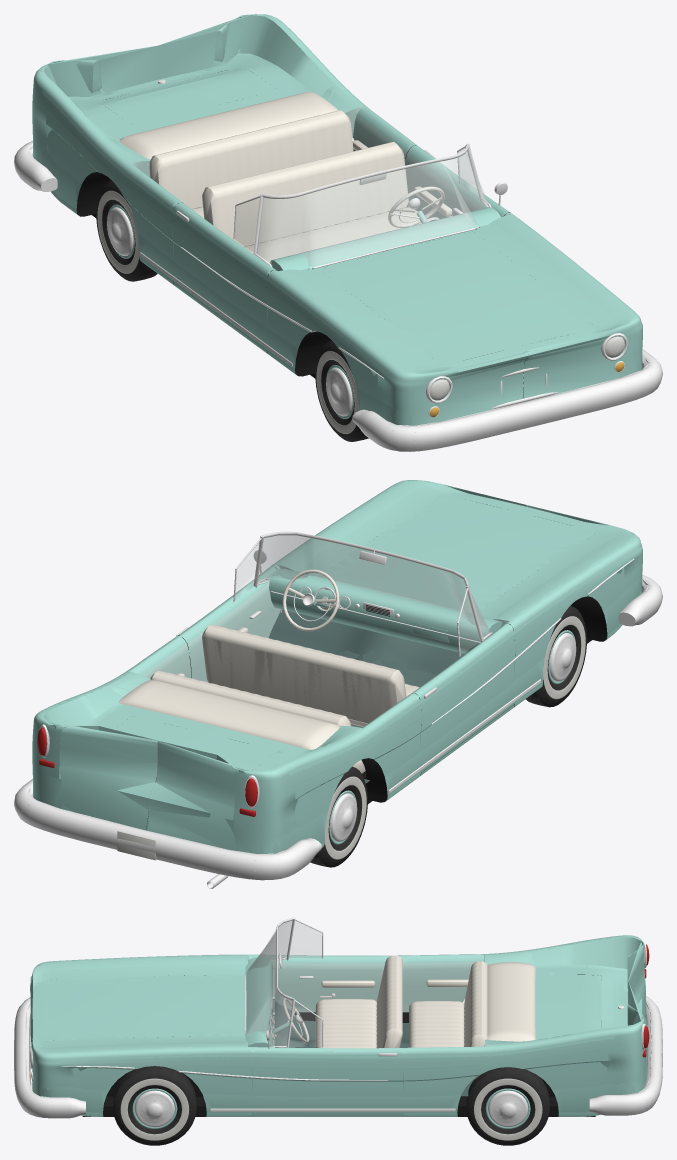
The model's file is convertible.glb.
3 renders of one model, top to bottom at view 1: azimuth 30°, elevation 25°; view 2: azimuth 150°, elevation 25°; view 3: azimuth 270°, elevation 25°, orthographic. The views are drawn at different scales.
Parts seen in each view (by area): view 1: body, trim, body_L1, glass, glass_L1, trim_L1, wheel_RR_mesh, wheel_FR_mesh, wheel_RR_L1_mesh, wheel_FR_L1_mesh, steering_wheel_mesh; view 2: body, trim, body_L1, trim_L1, glass, glass_L1, wheel_FR_mesh, wheel_RR_mesh, wheel_FR_L1_mesh, wheel_RR_L1_mesh, steering_wheel_mesh; view 3: body, trim, body_L1, glass, wheel_FL_mesh, wheel_RL_mesh, trim_L1, glass_L1, wheel_FL_L1_mesh, wheel_RL_L1_mesh, steering_wheel_mesh.
Boxes of the visible parts, x1,y1,x2,y2 form: body: [32, 14, 642, 425]; trim: [14, 79, 662, 451]; body_L1: [32, 14, 642, 425]; glass: [235, 149, 489, 265]; glass_L1: [257, 151, 488, 265]; trim_L1: [18, 143, 662, 451]; wheel_RR_mesh: [96, 181, 157, 281]; wheel_FR_mesh: [315, 341, 368, 441]; wheel_RR_L1_mesh: [96, 180, 157, 280]; wheel_FR_L1_mesh: [315, 341, 368, 441]; steering_wheel_mesh: [388, 186, 444, 227]; body: [32, 480, 642, 853]; trim: [14, 531, 662, 888]; body_L1: [33, 480, 642, 853]; trim_L1: [14, 532, 648, 879]; glass: [235, 535, 490, 654]; glass_L1: [258, 535, 489, 636]; wheel_FR_mesh: [525, 606, 586, 707]; wheel_RR_mesh: [310, 766, 367, 867]; wheel_FR_L1_mesh: [526, 606, 586, 706]; wheel_RR_L1_mesh: [312, 771, 367, 866]; steering_wheel_mesh: [282, 569, 339, 631]; body: [30, 935, 647, 1116]; trim: [14, 917, 662, 1118]; body_L1: [30, 936, 647, 1116]; glass: [246, 921, 321, 1046]; wheel_FL_mesh: [113, 1066, 196, 1145]; wheel_RL_mesh: [466, 1067, 549, 1145]; trim_L1: [20, 917, 662, 1115]; glass_L1: [247, 921, 291, 1045]; wheel_FL_L1_mesh: [113, 1066, 196, 1144]; wheel_RL_L1_mesh: [466, 1067, 549, 1144]; steering_wheel_mesh: [282, 998, 309, 1043].
Size of the model in its own units: 2.27 by 1.4 by 5.57.
Materials: 14 (1 with a texture image).
